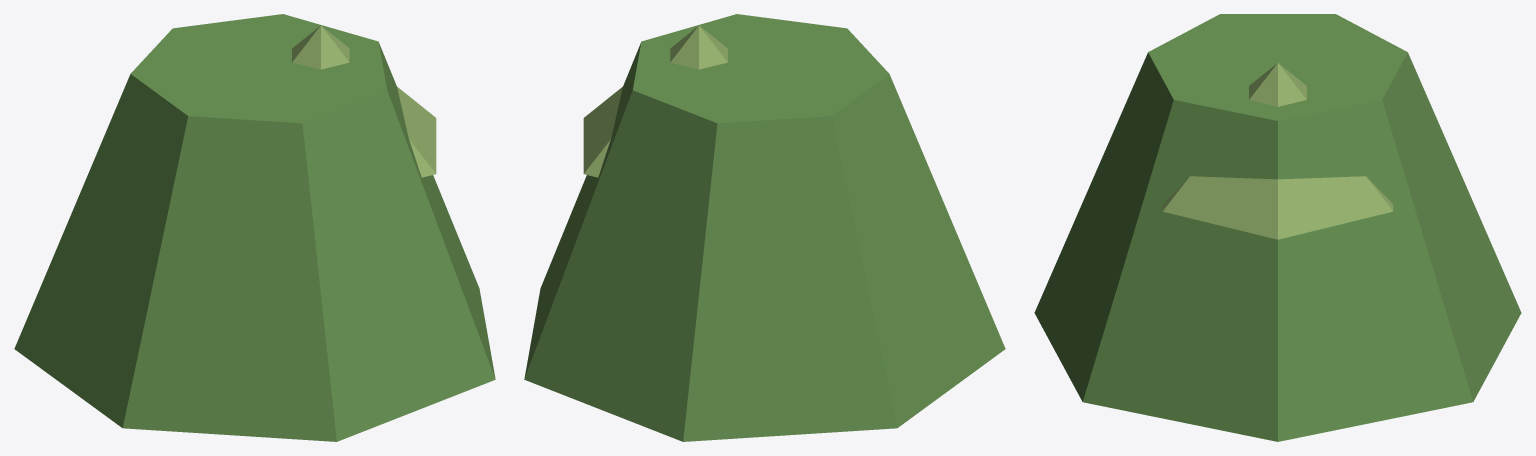
File: bush_03.glb
3 views of the same model, side by side, from view 1: azimuth 30°, elevation 25°; view 2: azimuth 150°, elevation 25°; view 3: azimuth 270°, elevation 25° (orthographic).
Bounding box in the file's own units: 1.43 × 1 × 1.46.
